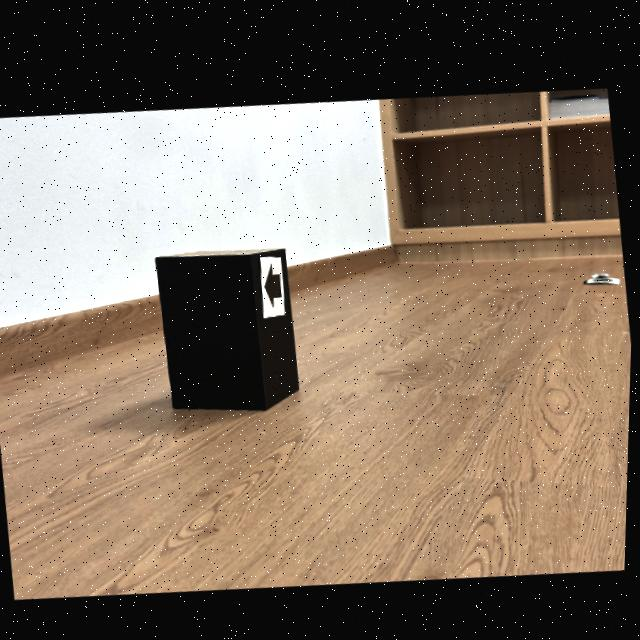LEFT: (266, 262, 283, 302)
